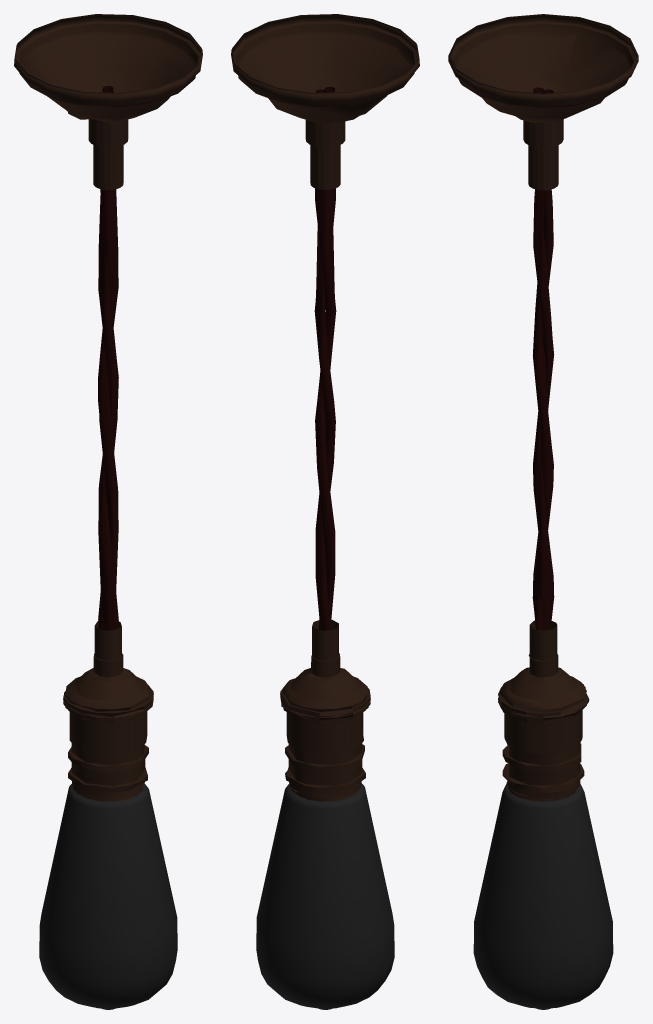
File: Light_.FBX
The picture shows the model from 3 angles, left to right: view 1: azimuth 30°, elevation 25°; view 2: azimuth 150°, elevation 25°; view 3: azimuth 270°, elevation 25°; orthographic projection.
Visible parts, largest first — view 1: Light002, Line1789529585, Line1789529583, Line1789529582; view 2: Light002, Line1789529585, Line1789529583, Line1789529582; view 3: Light002, Line1789529585, Line1789529583, Line1789529582.
Boxes of the visible parts, x1=… form: Light002: x1=39, y1=784, x2=177, y2=1009; Line1789529585: x1=14, y1=14, x2=202, y2=189; Line1789529583: x1=63, y1=621, x2=153, y2=801; Line1789529582: x1=98, y1=86, x2=118, y2=630; Light002: x1=256, y1=784, x2=394, y2=1009; Line1789529585: x1=231, y1=14, x2=419, y2=189; Line1789529583: x1=280, y1=619, x2=370, y2=801; Line1789529582: x1=314, y1=87, x2=336, y2=630; Light002: x1=473, y1=783, x2=613, y2=1009; Line1789529585: x1=448, y1=14, x2=638, y2=190; Line1789529583: x1=498, y1=620, x2=589, y2=801; Line1789529582: x1=532, y1=87, x2=554, y2=630.
Bounding box in the file's own units: 103 × 571 × 103.
